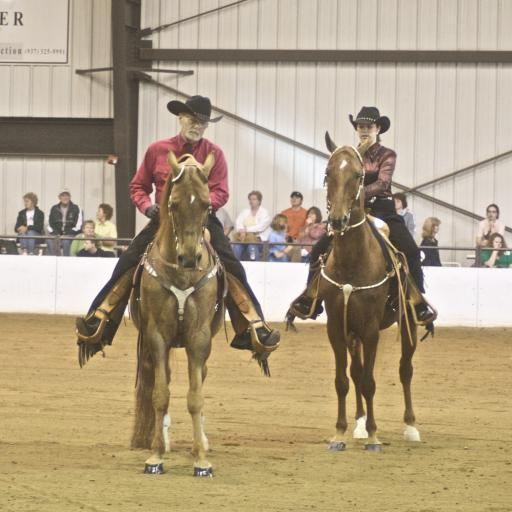horse: (127, 147, 229, 480), (318, 130, 420, 453)
